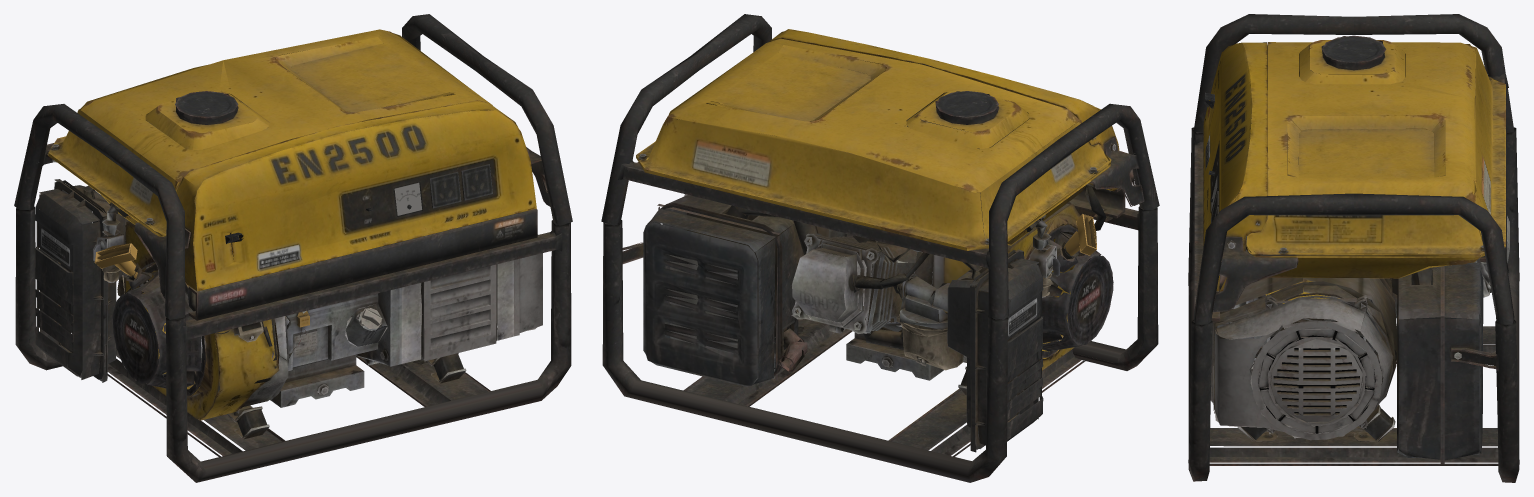
File: portable_generator_lod0.glb
The picture shows the model from 3 angles, left to right: view 1: azimuth 30°, elevation 25°; view 2: azimuth 150°, elevation 25°; view 3: azimuth 270°, elevation 25°; orthographic projection.
Parts seen in each view (by area): view 1: portable_generator; view 2: portable_generator; view 3: portable_generator.
Boxes of the visible parts, x1,y1,x2,y2 form: portable_generator: (14, 14, 572, 482); portable_generator: (601, 14, 1159, 482); portable_generator: (1188, 14, 1519, 482).
Size of the model in its own units: 0.8193 by 0.5768 by 0.564.
Materials: 2 (2 with a texture image).
